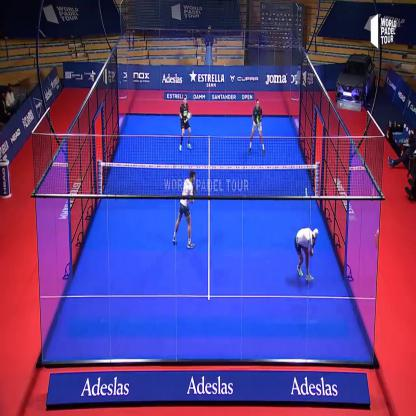ball: (304, 183, 310, 203)
